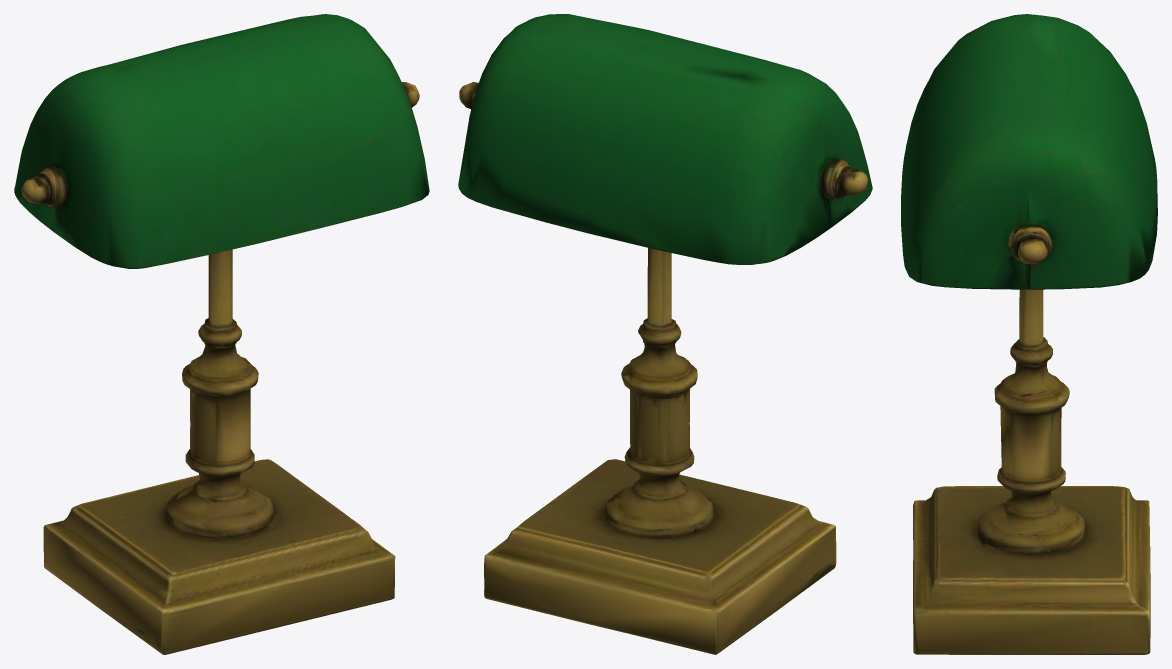
The model's file is lamp-banker-lite.glb.
3 views of the same model, side by side, from view 1: azimuth 30°, elevation 25°; view 2: azimuth 150°, elevation 25°; view 3: azimuth 270°, elevation 25° (orthographic).
Visible parts, largest first — view 1: node_0; view 2: node_0; view 3: node_0.
Part boxes in pixels (box(x1,y1,x2,y2)): node_0: box(14, 14, 429, 654); node_0: box(458, 14, 872, 654); node_0: box(901, 14, 1157, 654).
Bounding box in the file's own units: 0.8023 × 1.03 × 0.4532.
1 material, 1 textured.
